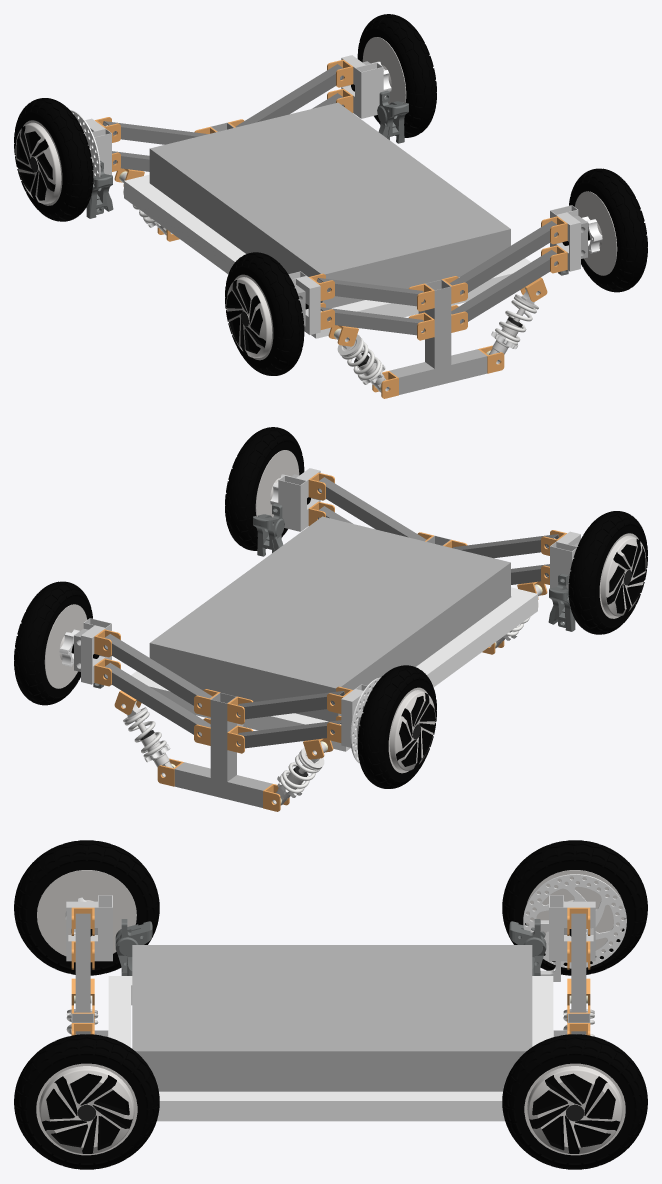
The model's file is scooter_glb.glb.
The picture shows the model from 3 angles, top to bottom: view 1: azimuth 30°, elevation 25°; view 2: azimuth 150°, elevation 25°; view 3: azimuth 270°, elevation 25°; orthographic projection. The views are drawn at different scales.
Parts seen in each view (by area): view 1: Box-1, Mirror 2 -3_2_Motor, BLDC, Hoverboard Wheel, 8.0in^scoot-1, 3_2_Motor, BLDC, Hoverboard Wheel, 8.0in^scoot-1, Mirror 2 -Mirror 1-3_2_Motor, BLDC, Hoverboard Wheel, 8.0in^, Mirror 1-3_2_Motor, BLDC, Hoverboard Wheel, 8.0in^scoot-1, Mirror 2 -3_Guard-2, 2_60mm_profile-1, Mirror 2 -Mirror 1-3_suspension arm-9, Mirror 2 -Mirror 1-3_suspension arm-8, Mirror 1-3_suspension arm-6, 2_40mm_profile-1, Mirror 2 -3_suspension arm-6 (+9 smaller); view 2: Box-1, Mirror 2 -3_2_Motor, BLDC, Hoverboard Wheel, 8.0in^scoot-1, 3_2_Motor, BLDC, Hoverboard Wheel, 8.0in^scoot-1, Mirror 1-3_2_Motor, BLDC, Hoverboard Wheel, 8.0in^scoot-1, Mirror 2 -Mirror 1-3_2_Motor, BLDC, Hoverboard Wheel, 8.0in^, 3_Guard-1, 2_60mm_profile-1, Mirror 1-3_suspension arm-6, Mirror 1-3_suspension arm-7, Mirror 2 -Mirror 1-3_suspension arm-9, 3_2_Assembled 1, 2_40mm_profile-2 (+11 smaller); view 3: Box-1, Mirror 1-3_2_Motor, BLDC, Hoverboard Wheel, 8.0in^scoot-1, Mirror 2 -Mirror 1-3_2_Motor, BLDC, Hoverboard Wheel, 8.0in^, Mirror 2 -3_2_Motor, BLDC, Hoverboard Wheel, 8.0in^scoot-1, 2_60mm_profile-2, 3_2_Motor, BLDC, Hoverboard Wheel, 8.0in^scoot-1, 3_2_brake disk 140mm.step-2, 3_2_Knuckle2-1, Mirror 2 -3_suspension arm-6, 3_suspension arm-4, 2_40mm_profile-1, 2_40mm_profile-2 (+4 smaller).
Part boxes in pixels (x1,y1,x2,y2): Box-1: (149,102,510,308); Mirror 2 -3_2_Motor, BLDC, Hoverboard Wheel, 8.0in^scoot-1: (225,252,308,375); 3_2_Motor, BLDC, Hoverboard Wheel, 8.0in^scoot-1: (14,98,93,221); Mirror 2 -Mirror 1-3_2_Motor, BLDC, Hoverboard Wheel, 8.0in^: (562,168,647,292); Mirror 1-3_2_Motor, BLDC, Hoverboard Wheel, 8.0in^scoot-1: (351,14,436,137); Mirror 2 -3_Guard-2: (389,279,487,394); 2_60mm_profile-1: (124,181,321,338); Mirror 2 -Mirror 1-3_suspension arm-9: (449,221,557,294); Mirror 2 -Mirror 1-3_suspension arm-8: (451,250,557,323); Mirror 1-3_suspension arm-6: (235,64,343,127); 2_40mm_profile-1: (316,264,524,338); Mirror 2 -3_suspension arm-6: (317,278,424,306); Box-1: (149,516,510,721); Mirror 2 -3_2_Motor, BLDC, Hoverboard Wheel, 8.0in^scoot-1: (568,511,647,634); 3_2_Motor, BLDC, Hoverboard Wheel, 8.0in^scoot-1: (357,665,436,788); Mirror 1-3_2_Motor, BLDC, Hoverboard Wheel, 8.0in^scoot-1: (14,581,99,705); Mirror 2 -Mirror 1-3_2_Motor, BLDC, Hoverboard Wheel, 8.0in^: (225,427,310,550); 3_Guard-1: (174,692,272,807); 2_60mm_profile-1: (340,594,537,751); Mirror 1-3_suspension arm-6: (104,634,212,707); Mirror 1-3_suspension arm-7: (104,663,210,736); Mirror 2 -Mirror 1-3_suspension arm-9: (318,477,426,541); 3_2_Assembled 1: (227,686,352,753); 2_40mm_profile-2: (137,677,345,751); Box-1: (132,945,532,1091); Mirror 1-3_2_Motor, BLDC, Hoverboard Wheel, 8.0in^scoot-1: (502,1034,647,1169); Mirror 2 -Mirror 1-3_2_Motor, BLDC, Hoverboard Wheel, 8.0in^: (14,1034,159,1169); Mirror 2 -3_2_Motor, BLDC, Hoverboard Wheel, 8.0in^scoot-1: (14,840,159,975); 2_60mm_profile-2: (157,1091,504,1121); 3_2_Motor, BLDC, Hoverboard Wheel, 8.0in^scoot-1: (502,840,647,975); 3_2_brake disk 140mm.step-2: (523,874,626,968); 3_2_Knuckle2-1: (549,895,593,961); Mirror 2 -3_suspension arm-6: (75,913,90,1012); 3_suspension arm-4: (571,913,586,1012); 2_40mm_profile-1: (108,976,130,1047); 2_40mm_profile-2: (532,976,553,1046).
Size of the model in its own units: 0.6966 by 0.2833 by 0.8559.
